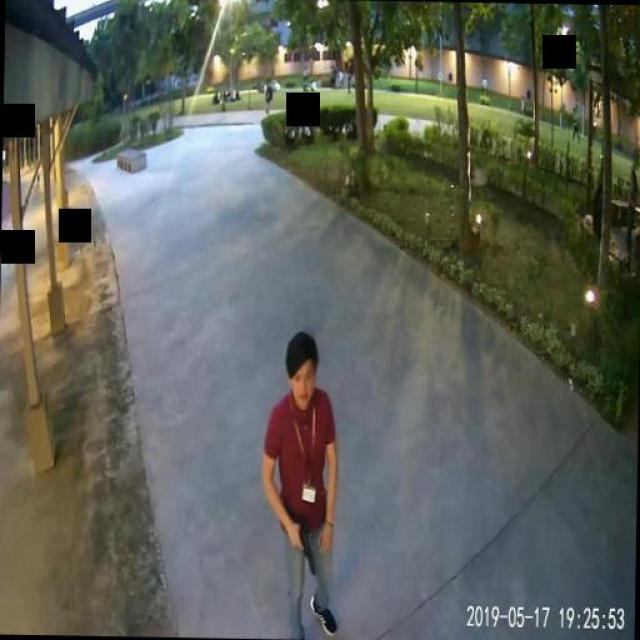gun: (289, 522, 315, 576)
